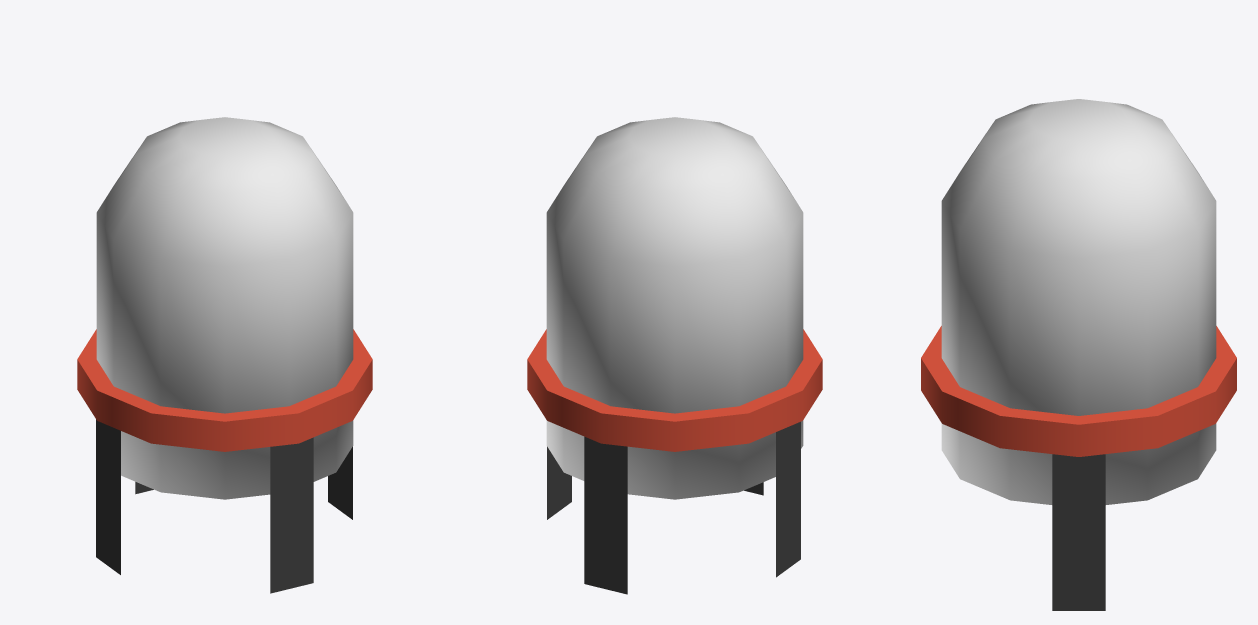
The model's file is silo.glb.
The picture shows the model from 3 angles, left to right: view 1: azimuth 30°, elevation 25°; view 2: azimuth 150°, elevation 25°; view 3: azimuth 270°, elevation 25°; orthographic projection. The views are drawn at different scales.
Visible parts, largest first — view 1: Cylinder, Cylinder.001, Plane.001, Plane.003, Plane; view 2: Cylinder, Cylinder.001, Plane.002, Plane.003, Plane; view 3: Cylinder, Cylinder.001, Plane.
Boxes of the visible parts, <box> form: Cylinder: <box>96,117,353,499</box>; Cylinder.001: <box>77,329,372,451</box>; Plane.001: <box>270,437,313,593</box>; Plane.003: <box>96,419,120,574</box>; Plane: <box>328,446,352,519</box>; Cylinder: <box>546,117,803,499</box>; Cylinder.001: <box>527,329,822,451</box>; Plane.002: <box>584,436,627,594</box>; Plane.003: <box>776,421,800,577</box>; Plane: <box>547,446,571,519</box>; Cylinder: <box>941,99,1216,504</box>; Cylinder.001: <box>921,326,1236,456</box>; Plane: <box>1052,454,1105,610</box>.
Size of the model in its own units: 2.4 by 3.75 by 2.4.
